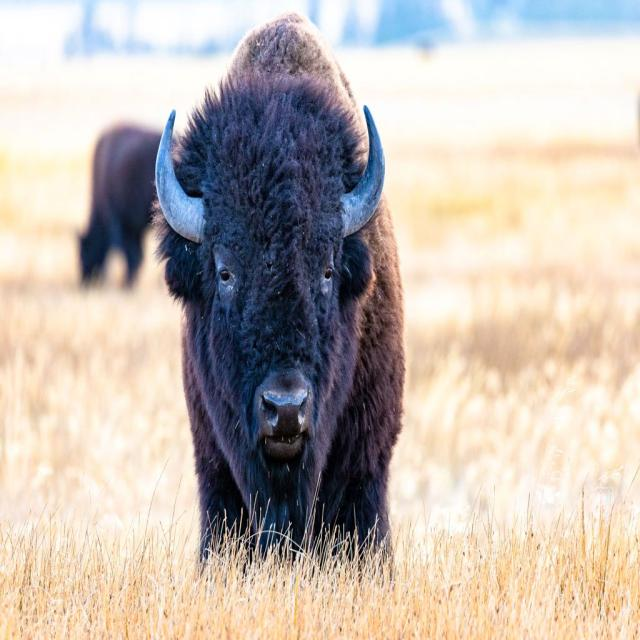bison: (156, 13, 405, 554)
